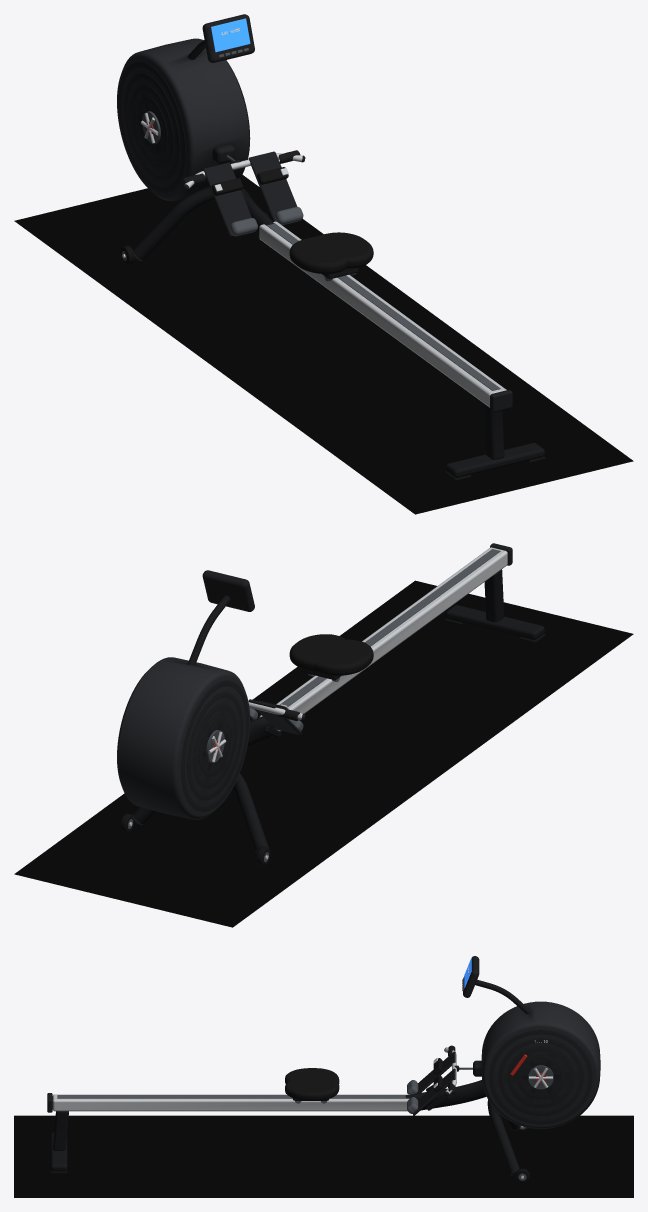
File: remo.glb
3 renders of one model, top to bottom at view 1: azimuth 30°, elevation 25°; view 2: azimuth 150°, elevation 25°; view 3: azimuth 270°, elevation 25°, orthographic. The views are drawn at different scales.
Visible parts, largest first — view 1: Sombra_Contacto, Carcaca_Ventoinha, Monocarril, Almofada, Faixa_Deslize, Perna_Frente, Pe_Tras, Placa, Placa_1, Grelha_3, Grelha_2, Caixa (+3 smaller); view 2: Sombra_Contacto, Carcaca_Ventoinha, Monocarril, Almofada, Faixa_Deslize, Pe_Tras, Caixa, Grelha_3, Perna_Frente, Grelha_2, Perna_Tras, Grelha_1 (+3 smaller); view 3: Sombra_Contacto, Carcaca_Ventoinha, Monocarril, Almofada, Grelha_7, Faixa_Deslize, Grelha_6, Grelha_5, Perna_Frente, Quadro_Frontal, Grelha_4, Perna_Tras (+5 smaller).
Boxes of the visible parts, x1,y1,x2,y2 form: Sombra_Contacto: [14, 175, 633, 514]; Carcaca_Ventoinha: [117, 38, 250, 201]; Monocarril: [259, 221, 506, 407]; Almofada: [289, 232, 373, 273]; Faixa_Deslize: [266, 223, 500, 390]; Perna_Frente: [133, 186, 255, 260]; Pe_Tras: [446, 443, 544, 477]; Placa: [203, 162, 251, 236]; Placa_1: [248, 151, 297, 221]; Grelha_3: [118, 62, 185, 193]; Grelha_2: [124, 73, 179, 181]; Caixa: [202, 14, 254, 62]; Sombra_Contacto: [14, 580, 633, 927]; Carcaca_Ventoinha: [117, 657, 250, 819]; Monocarril: [259, 547, 507, 731]; Almofada: [289, 634, 373, 675]; Faixa_Deslize: [279, 549, 500, 706]; Pe_Tras: [446, 605, 544, 639]; Caixa: [202, 570, 254, 611]; Grelha_3: [181, 680, 248, 811]; Perna_Frente: [133, 773, 268, 850]; Grelha_2: [187, 692, 242, 800]; Perna_Tras: [484, 569, 504, 622]; Grelha_1: [193, 704, 236, 788]; Sombra_Contacto: [14, 1115, 633, 1197]; Carcaca_Ventoinha: [481, 1001, 600, 1128]; Monocarril: [52, 1094, 409, 1111]; Almofada: [285, 1068, 339, 1100]; Grelha_7: [489, 1030, 592, 1124]; Faixa_Deslize: [57, 1095, 406, 1098]; Grelha_6: [498, 1038, 583, 1115]; Grelha_5: [507, 1046, 574, 1107]; Perna_Frente: [487, 1100, 519, 1173]; Quadro_Frontal: [407, 1080, 486, 1110]; Grelha_4: [516, 1055, 565, 1099]; Perna_Tras: [53, 1111, 68, 1150].
Size of the model in its own units: 1.06 by 1.16 by 3.37.
Materials: 13 (1 with a texture image).
